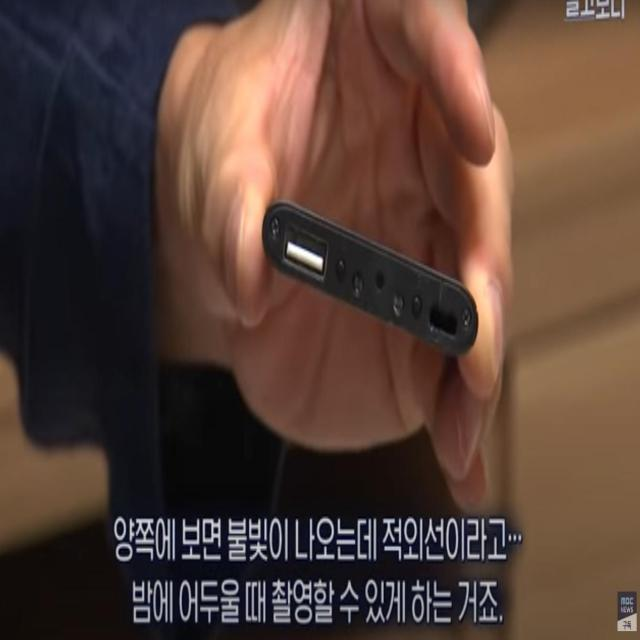hidden camera: (371, 255, 390, 303)
